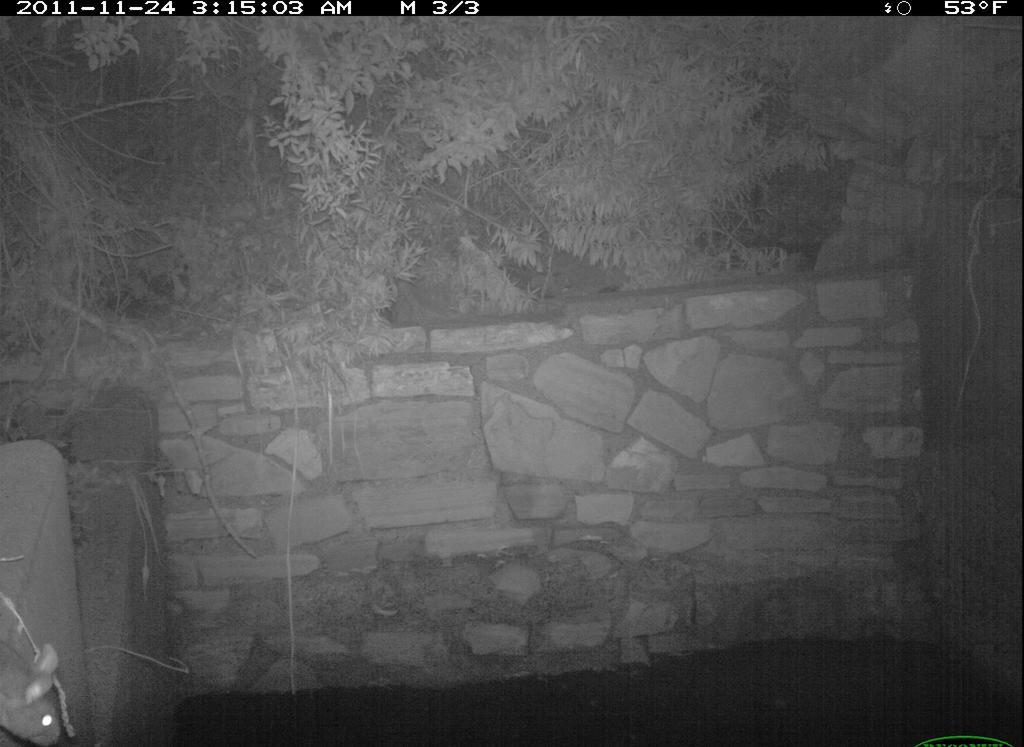rodent: (4, 624, 79, 747)
